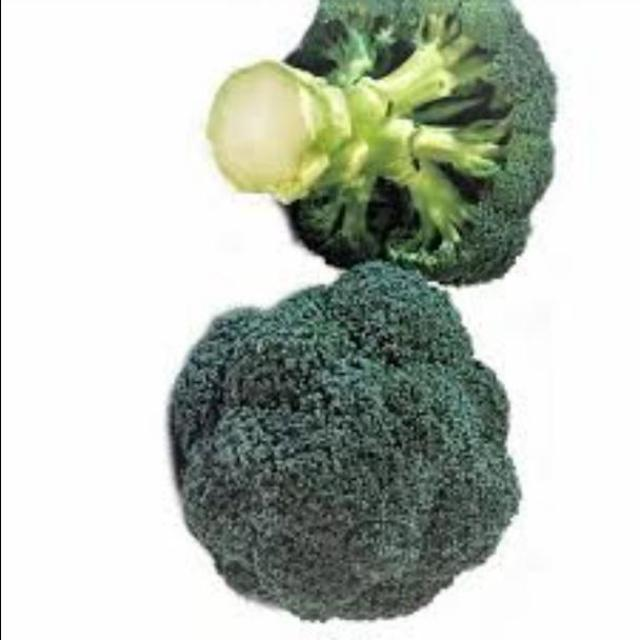Broccoli: (158, 248, 556, 630), (197, 1, 588, 300)
